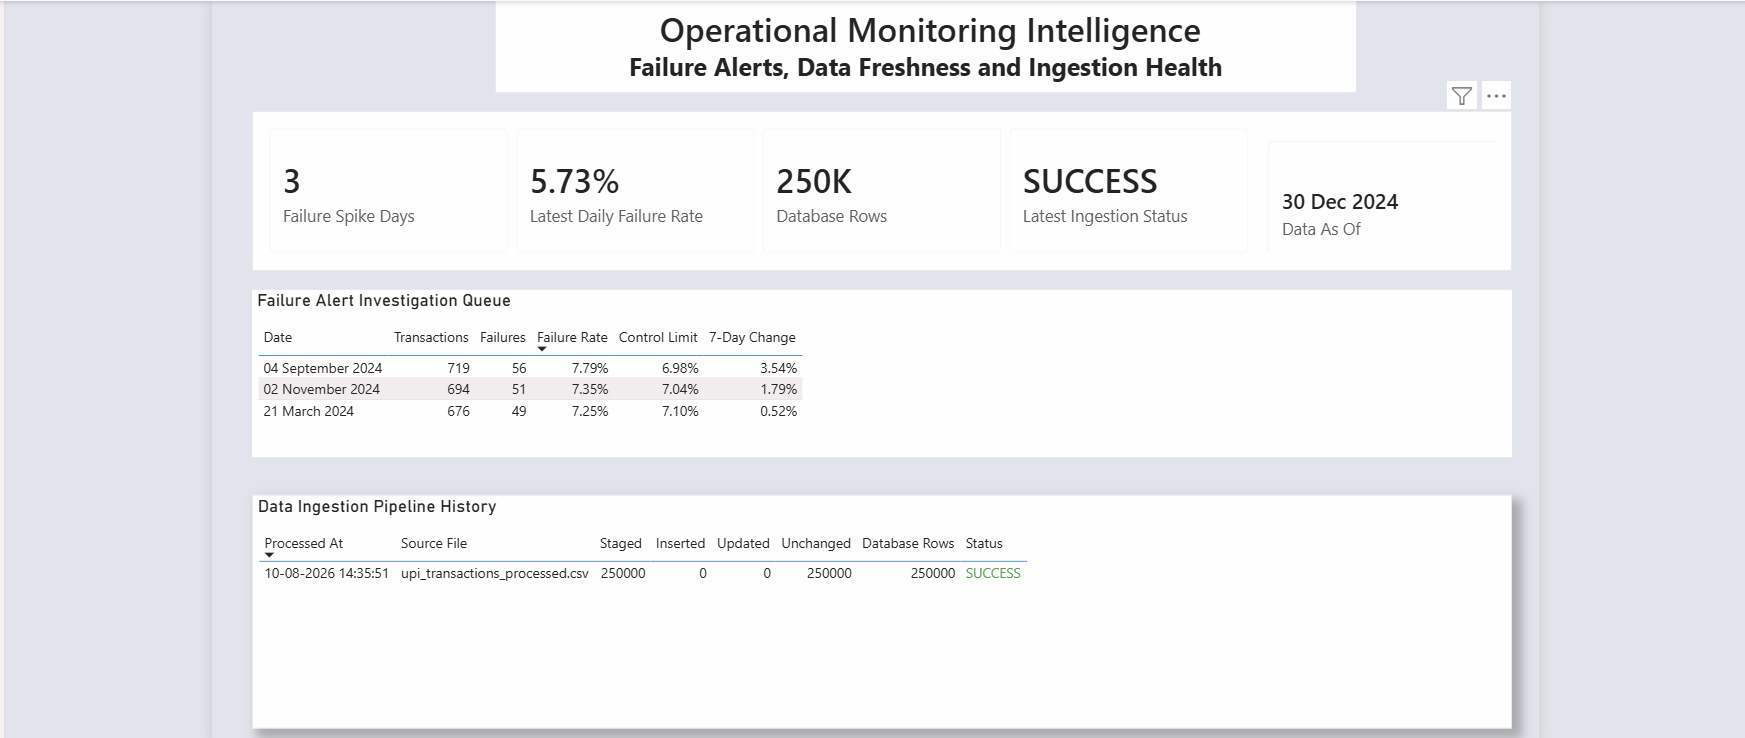

What the dashboard file says about the page in this screenshot:
{"tool":"powerbi","page":{"name":"05 Operational Monitoring","canvas":[1280,720],"ordinal":4},"visuals":[{"type":"textbox","box":[273.9,0,830,88.1],"z":0},{"type":"cardVisual","fields":{"Data":["public vw_daily_transaction_health.Total Failure Spike Days","public vw_daily_failure_alerts.Latest Daily Failure Rate","public vw_ingestion_history.Current Database Rows","public vw_ingestion_history.Latest Ingestion Status","public vw_transaction_overview.Data As Of"]},"box":[38.6,106.2,1216.1,154.4],"z":1},{"type":"tableEx","title":"Failure Alert Investigation Queue","fields":{"Values":["public vw_daily_failure_alerts.transaction_date","Sum(public vw_daily_failure_alerts.total_transactions)","Sum(public vw_daily_failure_alerts.failed_transactions)","public vw_daily_failure_alerts.Alert Failure Rate","public vw_daily_failure_alerts.Upper Control Limit","public vw_daily_failure_alerts.Weekly Failure Rate Change"]},"box":[38.6,278.7,1216.1,161.7],"z":2},{"type":"tableEx","title":"Data Ingestion Pipeline History","fields":{"Values":["public vw_ingestion_history.processed_at","public vw_ingestion_history.source_file","Sum(public vw_ingestion_history.staged_rows)","Sum(public vw_ingestion_history.inserted_rows)","Sum(public vw_ingestion_history.updated_rows)","Sum(public vw_ingestion_history.unchanged_rows)","Sum(public vw_ingestion_history.target_rows_after)","public vw_ingestion_history.status"]},"box":[38.6,476.5,1216.1,225.6],"z":3}]}

Visuals, with their boxes on the page's 1280x720 design canvas (x1, y1, x2, y2). These are canvas units, not pixel positions in the 1745x738 screenshot, which may show the page scaled, cropped or inside an application window:
textbox: [274,0,1104,88]
cardVisual - public vw_daily_transaction_health.Total Failure Spike Days x public vw_daily_failure_alerts.Latest Daily Failure Rate: [39,106,1255,261]
"Failure Alert Investigation Queue" tableEx: [39,279,1255,440]
"Data Ingestion Pipeline History" tableEx: [39,476,1255,702]
